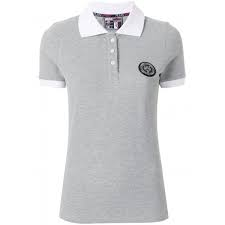S_polo shirt: (35, 10, 198, 225)
